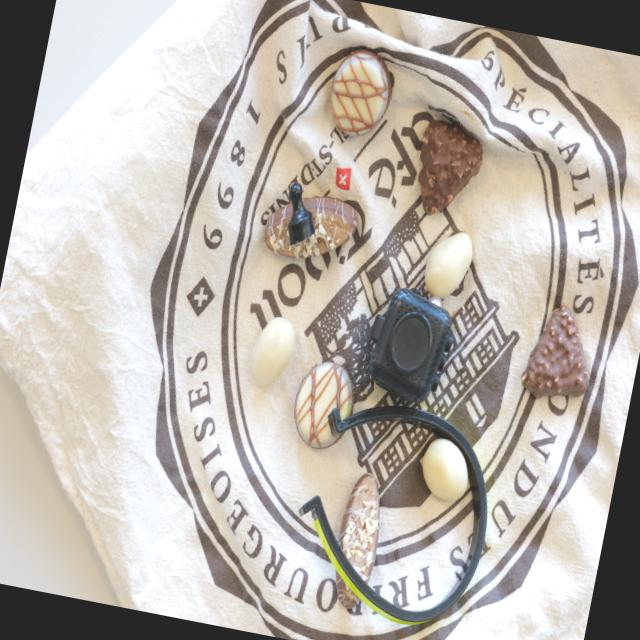Amandina: (326, 470, 390, 612), (260, 188, 358, 266)
Creme_brulee: (322, 45, 397, 142), (287, 356, 358, 454)
Jelly_White: (421, 224, 476, 301), (246, 313, 299, 389), (418, 436, 474, 502)
Triangolo: (518, 303, 600, 408), (409, 116, 488, 222)
